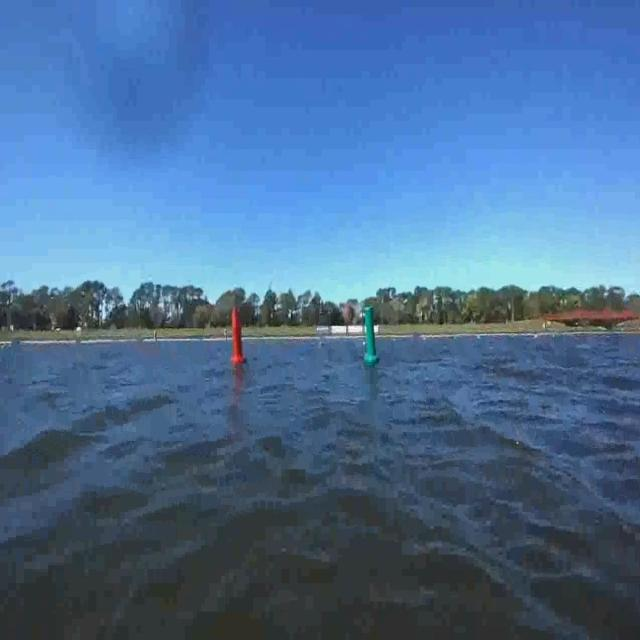green-column-buoy: (361, 307, 379, 367)
red-column-buoy: (231, 307, 248, 365)
